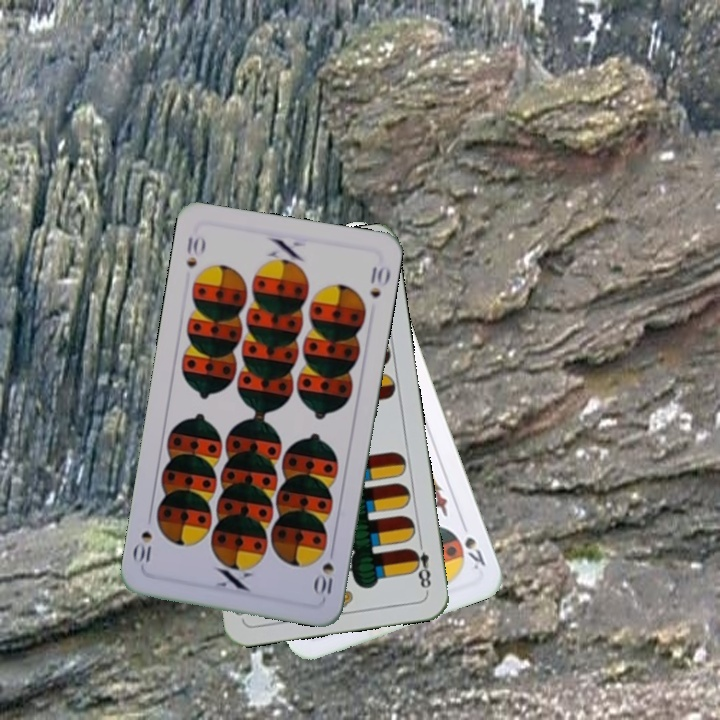E8: (407, 535, 433, 594)
S10: (312, 558, 336, 601), (182, 233, 208, 270)
SK: (460, 532, 488, 573)
